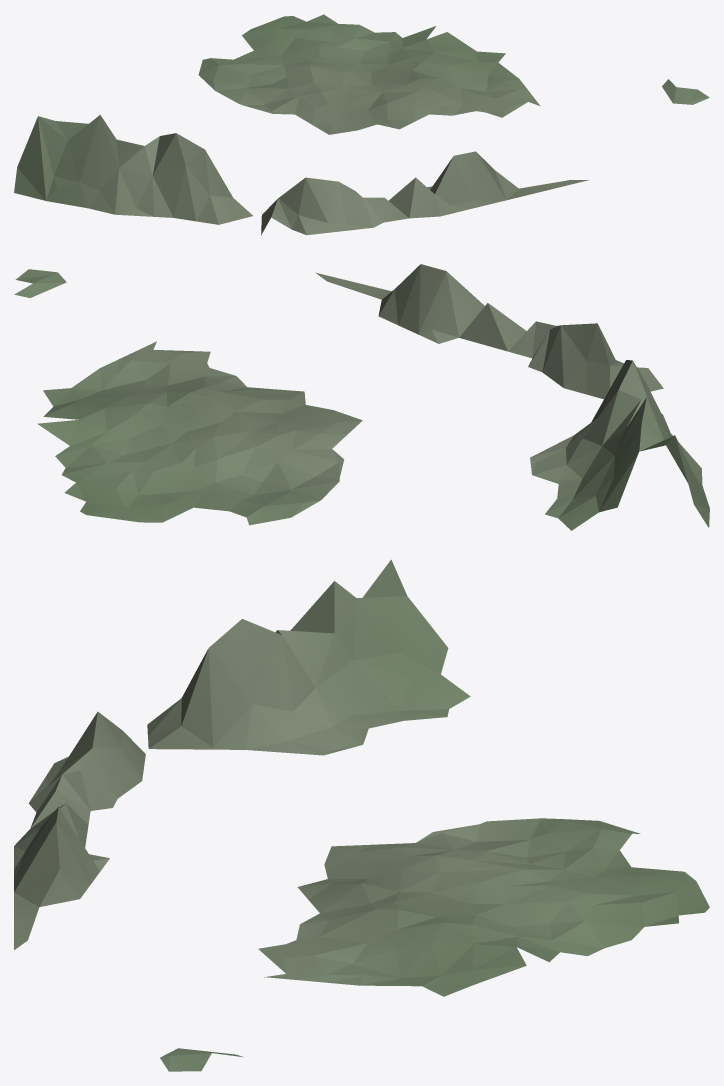
The picture shows the model from 3 angles, top to bottom: view 1: azimuth 30°, elevation 25°; view 2: azimuth 150°, elevation 25°; view 3: azimuth 270°, elevation 25°; orthographic projection. The views are drawn at different scales.
Visible parts, largest first — view 1: 巽他火山群岛; view 2: 巽他火山群岛; view 3: 巽他火山群岛.
Boxes of the visible parts, x1,y1,x2,y2 form: 巽他火山群岛: (14, 14, 709, 235); 巽他火山群岛: (14, 264, 709, 530); 巽他火山群岛: (14, 559, 709, 1071).
Size of the model in its own units: 17.58 by 2.14 by 11.99.
